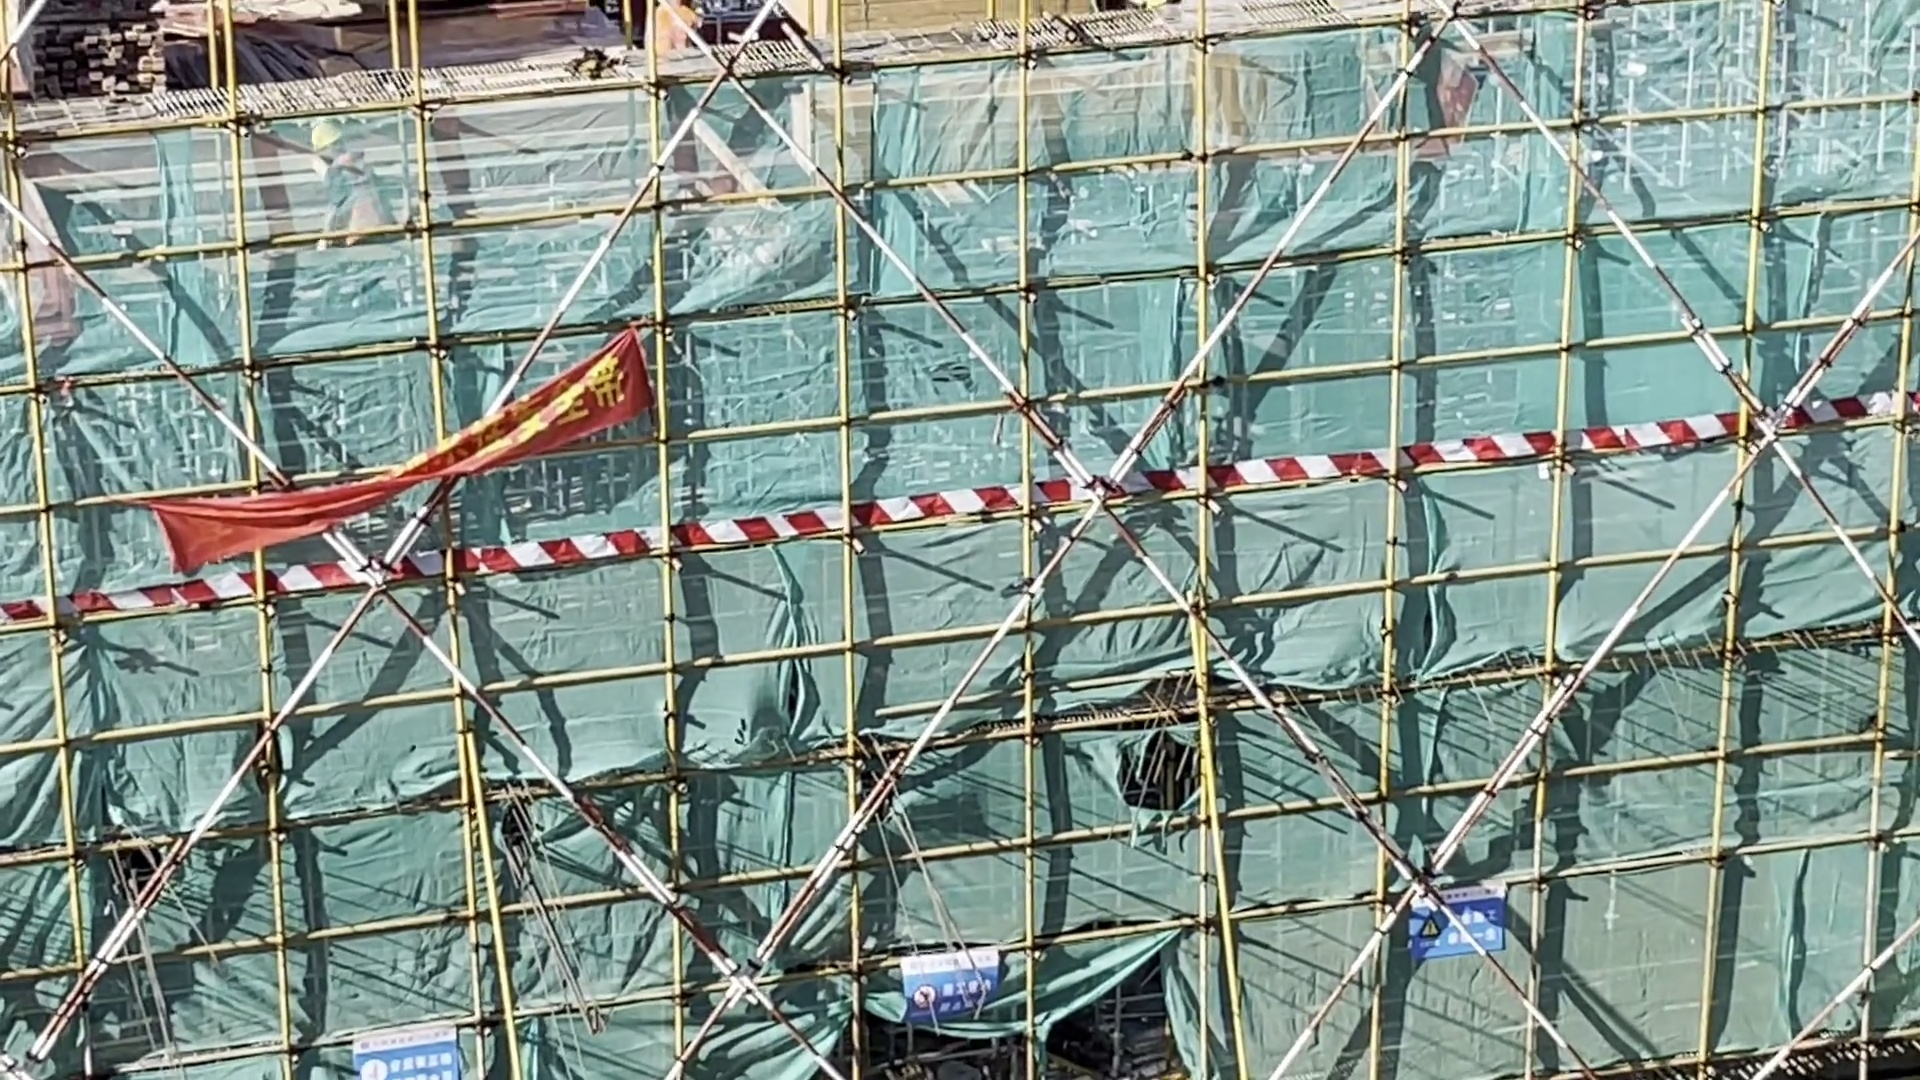helmet: (313, 130, 349, 151)
person: (307, 125, 373, 246), (646, 1, 700, 66)
slogan: (166, 357, 655, 556), (1411, 887, 1504, 963), (915, 963, 1000, 1022), (365, 1028, 461, 1080)
vest: (652, 2, 695, 54)
wood: (804, 64, 1283, 167), (798, 1, 1088, 39), (32, 28, 157, 91), (26, 1, 157, 24)
